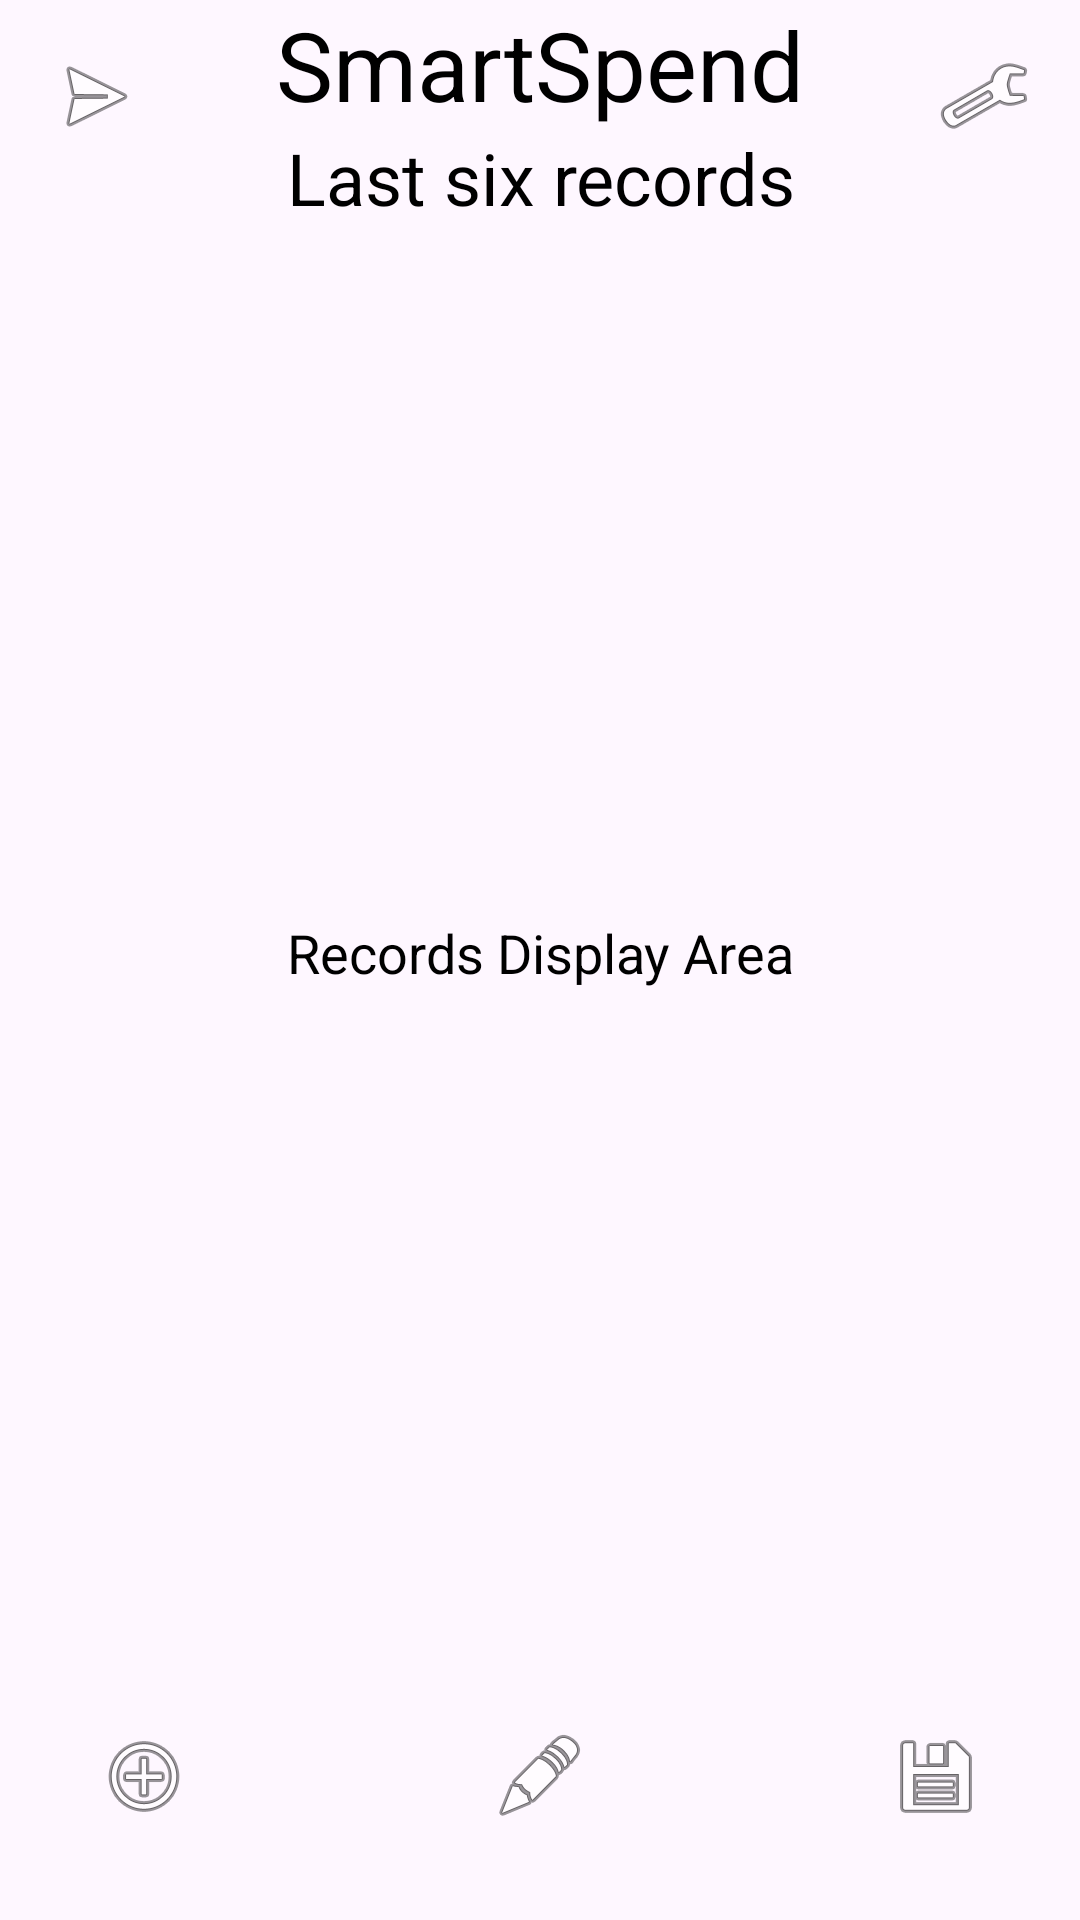

Where to tap for icons on this 1080*1920 app screen, as [x,y]:
add: [144,1776]
edit: [539,1775]
manage: [984,96]
save: [936,1776]
send: [97,96]
